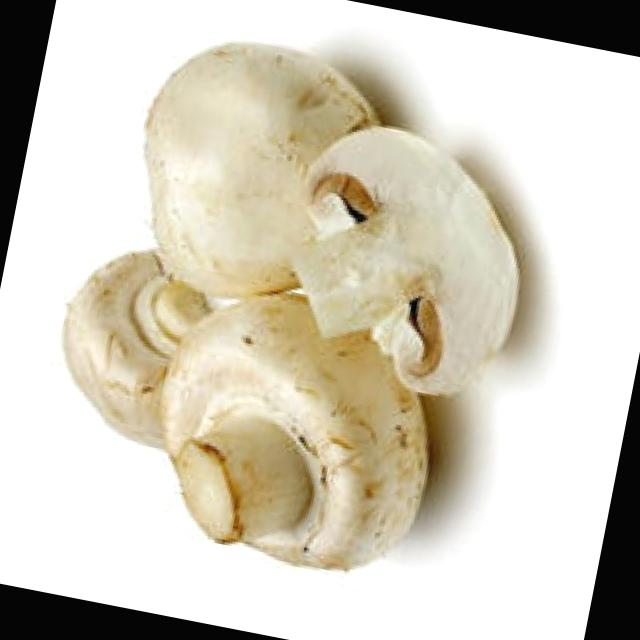Agaricus bisporus: (135, 288, 452, 586), (270, 94, 550, 413), (117, 0, 389, 326), (44, 230, 222, 456)
